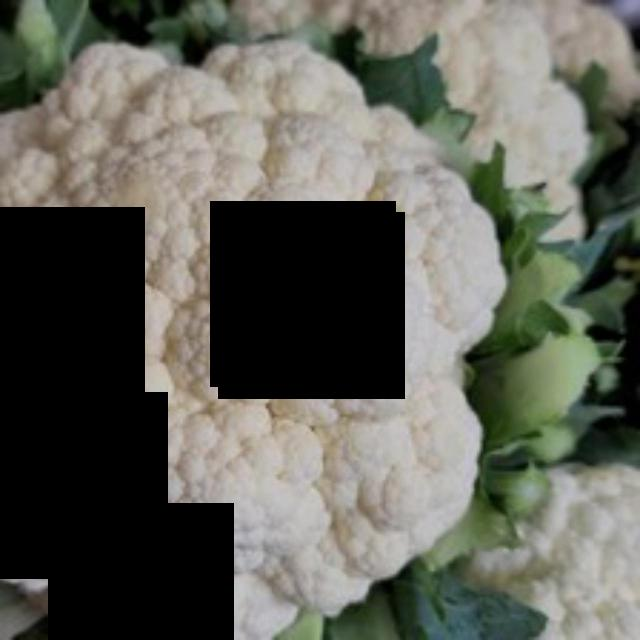cauliflower: (0, 20, 520, 637)
